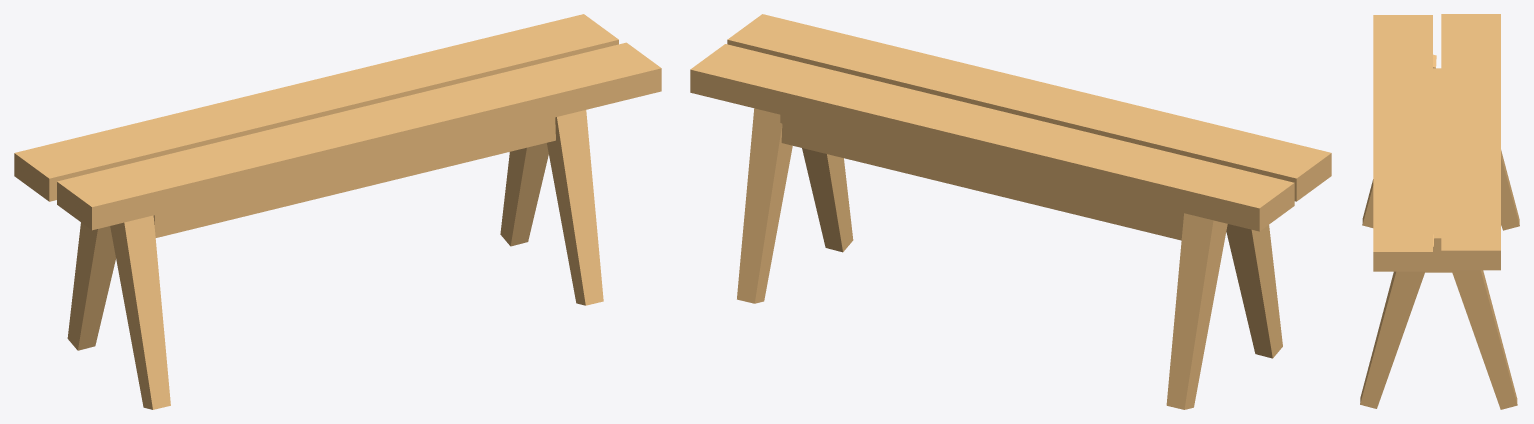
Rendered from small-working-bench.glb.
3 views of the same model, side by side, from view 1: azimuth 30°, elevation 25°; view 2: azimuth 150°, elevation 25°; view 3: azimuth 270°, elevation 25° (orthographic). The views are drawn at different scales.
Parts seen in each view (by area): view 1: Node; view 2: Node; view 3: Node.
Part boxes in pixels (box(x1,y1,x2,y2)): Node: box(14, 14, 661, 409); Node: box(690, 14, 1331, 409); Node: box(1360, 14, 1519, 409).
Size of the model in its own units: 1.03 by 0.3743 by 0.2938.
